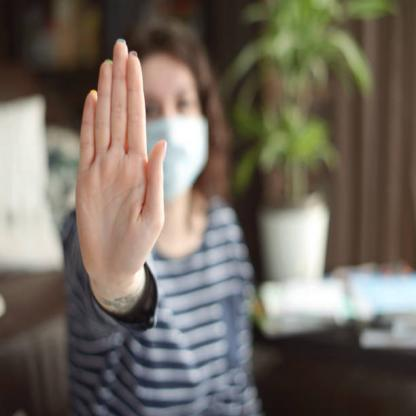stop: (73, 34, 170, 296)
